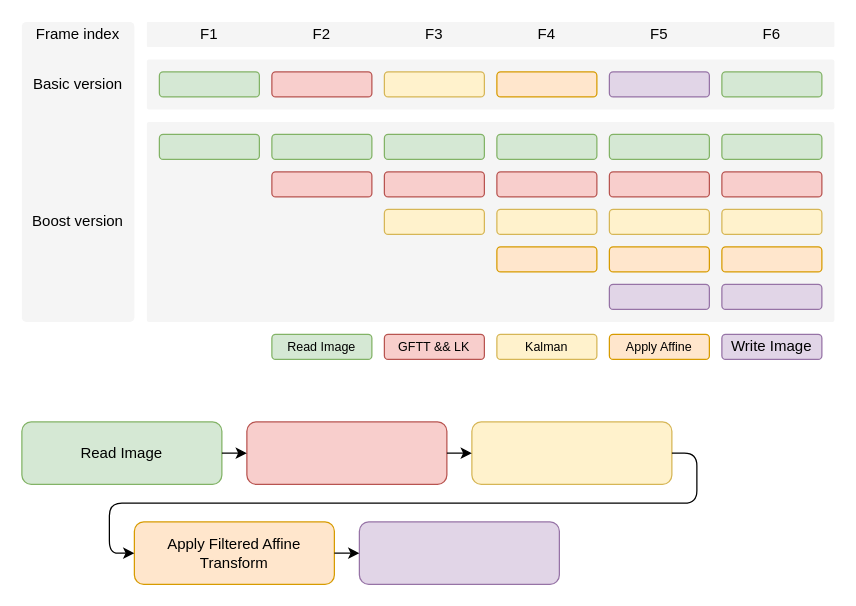
This 856x606 diagram has some shape labels left out. The shapes that lost their labels are listed below. From the top down, each one's centre as x and y in pixels, then its label:
At point 346,452: "Good Features To Track LK Optical Flow".
At point 571,452: "Affine Transform Esitimation Kalman Filter".
At point 458,552: "Write Result".
